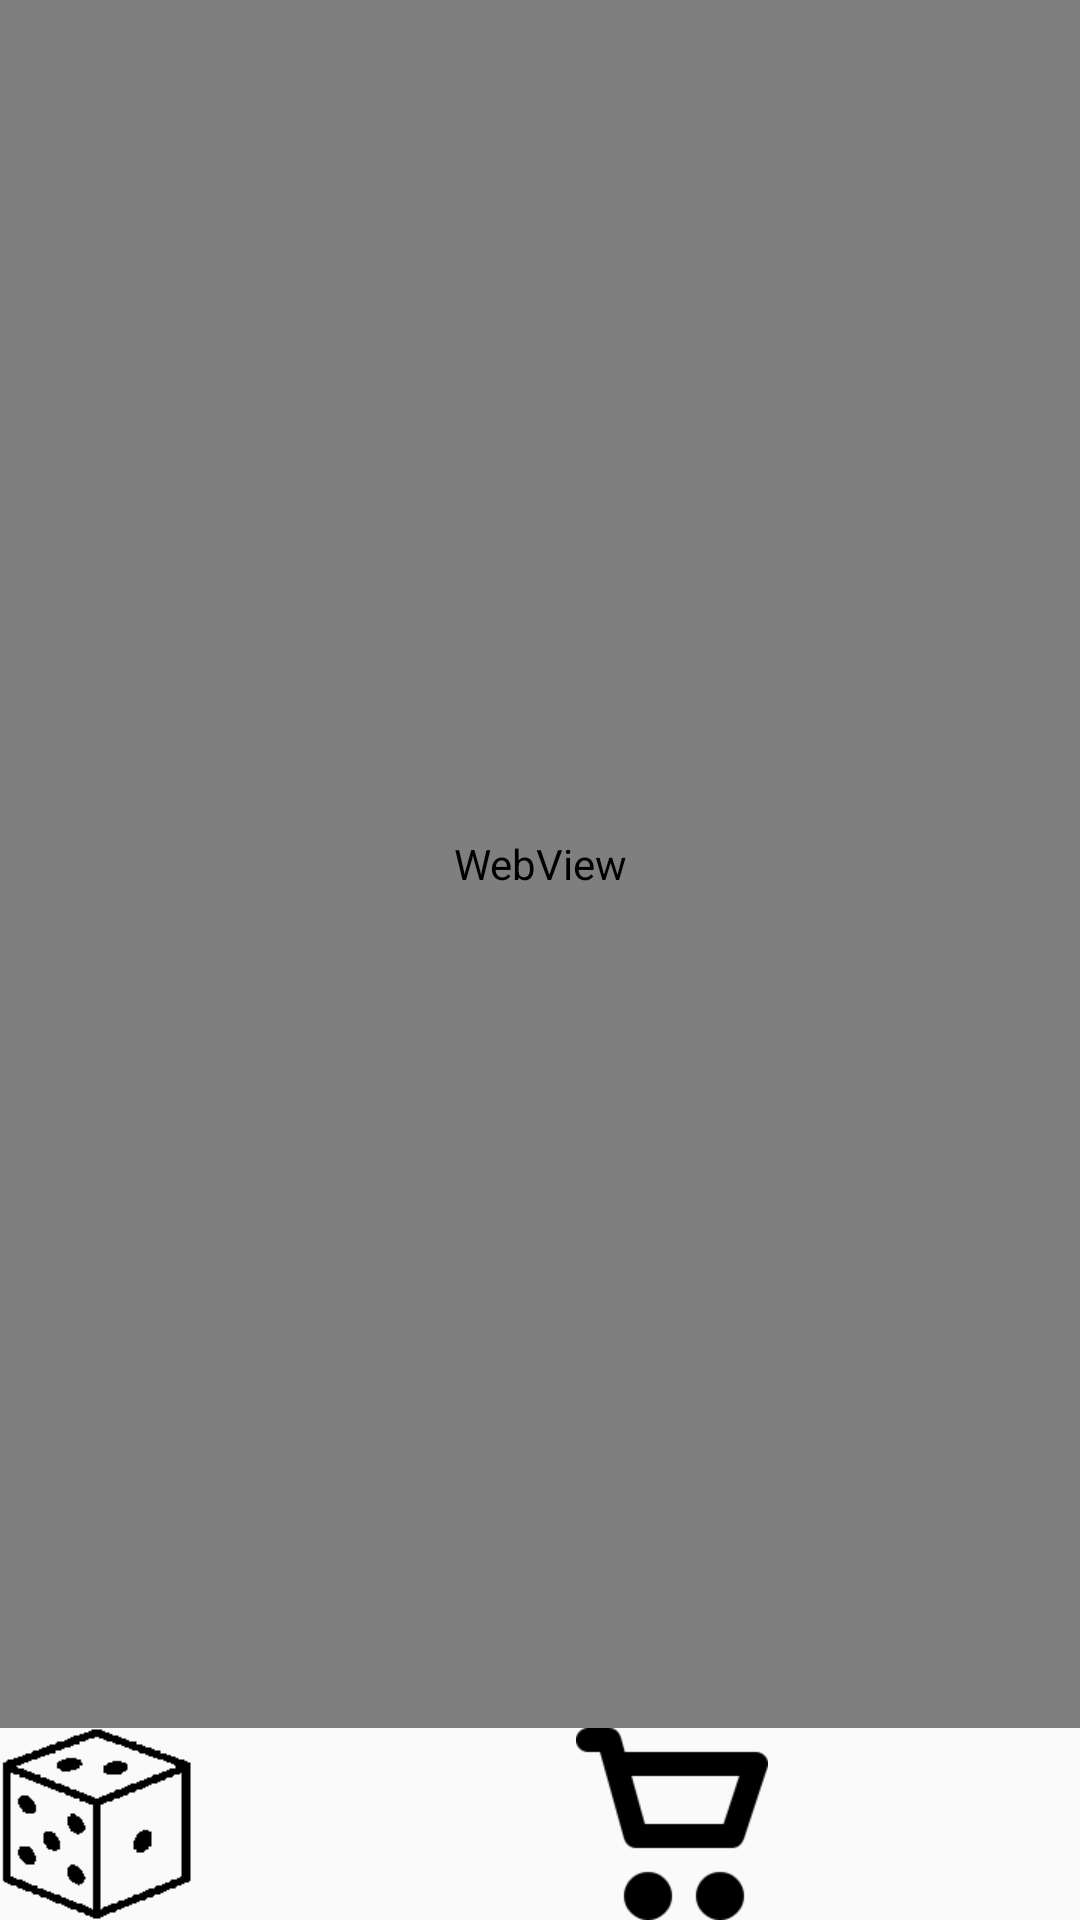

Named icons in this screenshot (1080 × 1920) and their bounding boxes, region(x1, y1, x2, y2):
Dice Roller: region(2, 1729, 191, 1919)
Package Store: region(576, 1728, 768, 1920)
